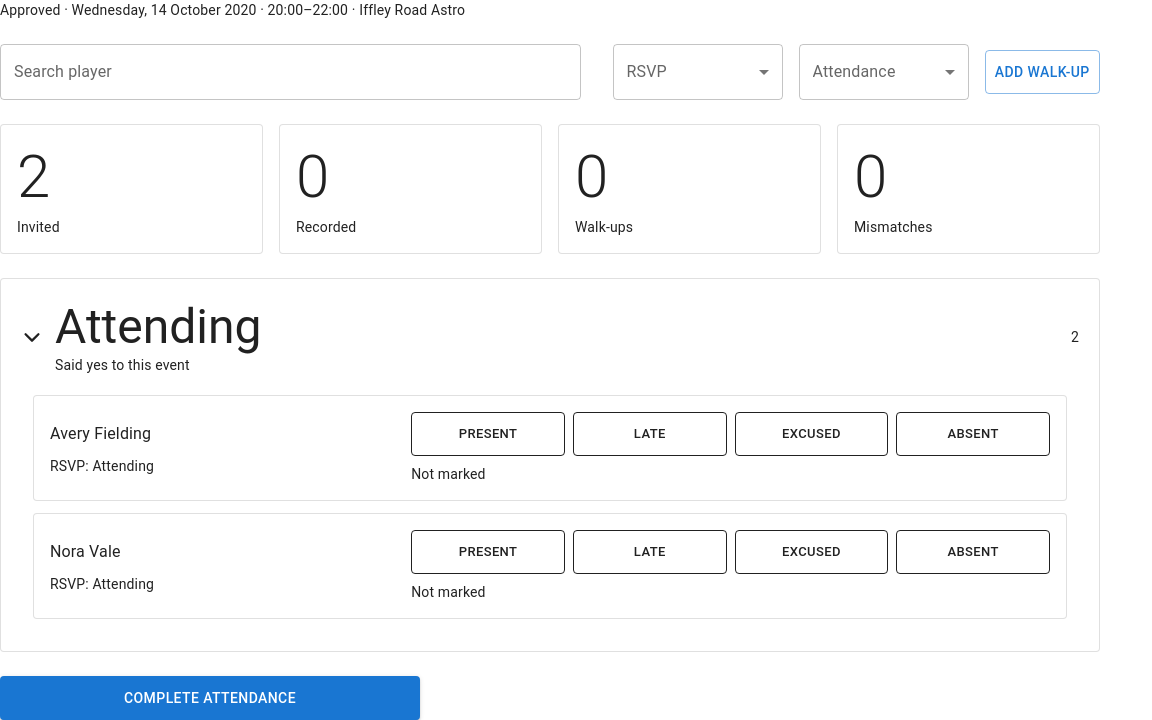
UX-72 — the attendance board › shows only the latest row action's error without changing either committed value
The width and height of the screenshot is (1152, 720).
(page scrolled)
Click the button "Present" in the row of "Avery Fielding" at (488, 434), box left=411, top=412, right=565, bottom=456
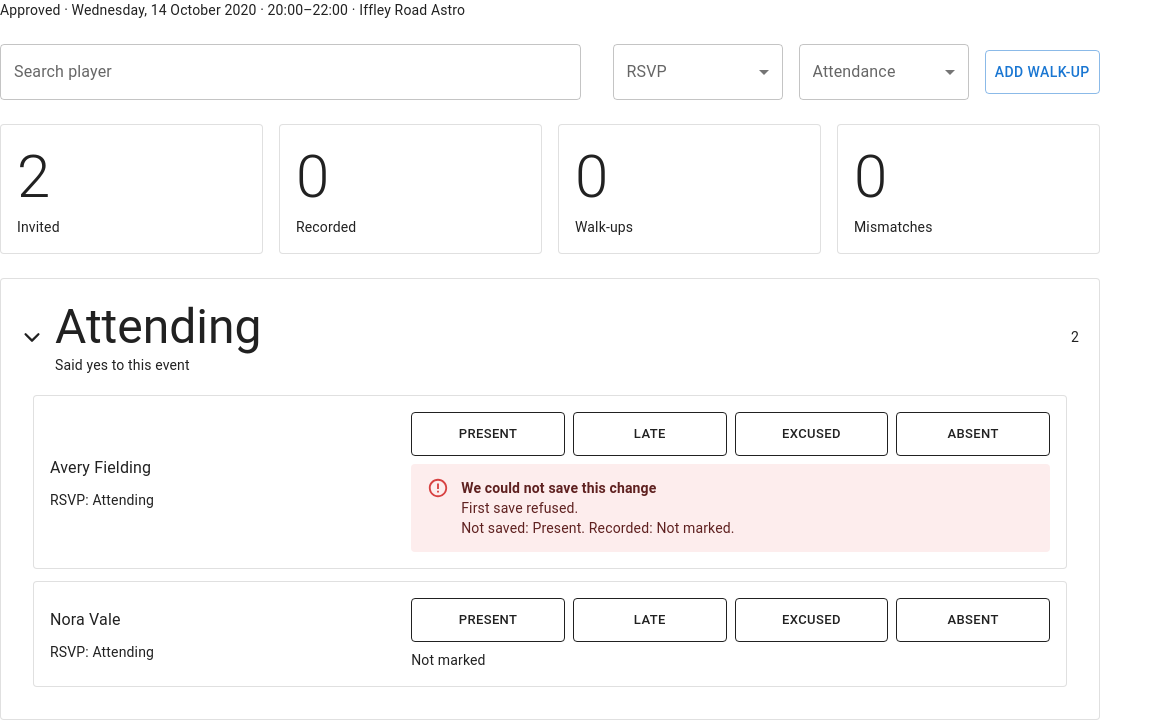
Check: the text "First save refused." is shown, box left=461, top=500, right=578, bottom=516
Click the button "Present" in the row of "Nora Vale" at (488, 620), box left=411, top=598, right=565, bottom=642
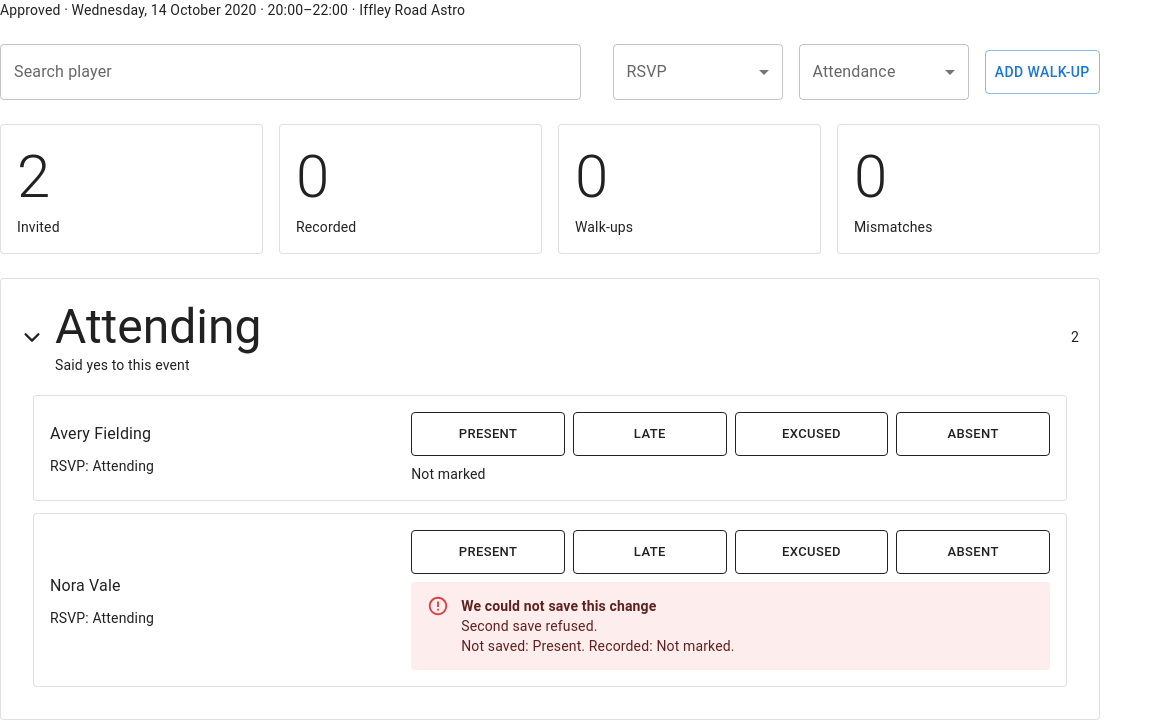
Check: the number of messages with test id "attendance-save-error" is 1, box left=411, top=582, right=1050, bottom=670
Check: the text "Second save refused." is shown, box left=461, top=618, right=598, bottom=634
Check: the text "First save refused." is gone
